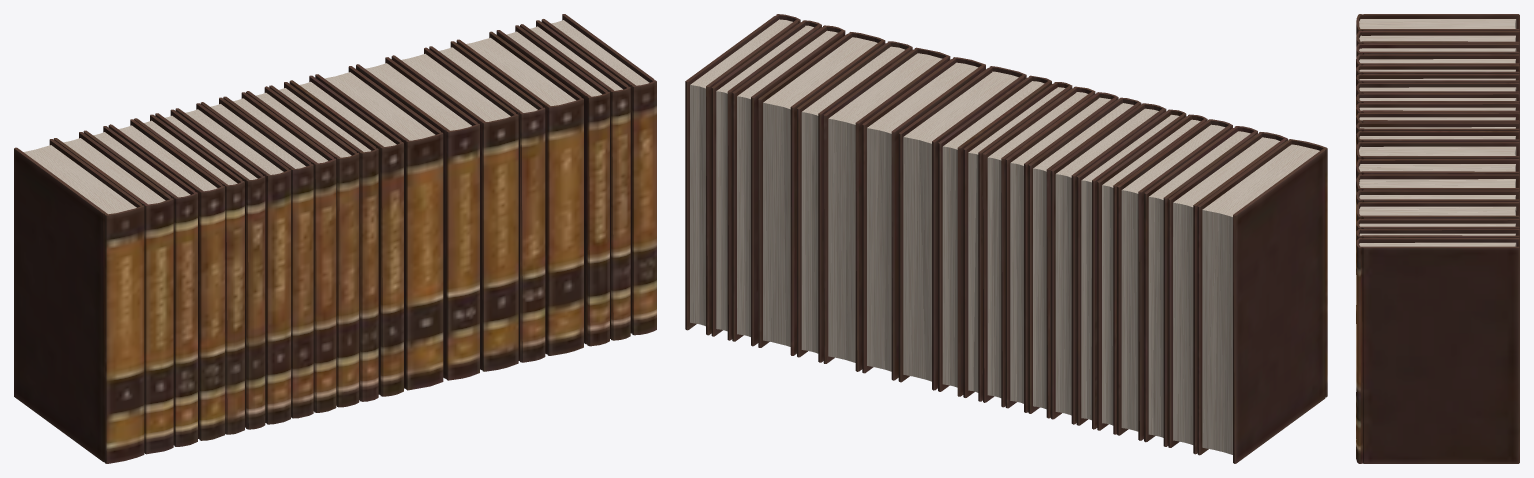
File: books.glb
3 views of the same model, side by side, from view 1: azimuth 30°, elevation 25°; view 2: azimuth 150°, elevation 25°; view 3: azimuth 270°, elevation 25° (orthographic). The views are drawn at different scales.
Visible parts, largest first — view 1: book_encyclopedia_set_01_book01; view 2: book_encyclopedia_set_01_book01; view 3: book_encyclopedia_set_01_book01.
Boxes of the visible parts, bbox=[...] form: book_encyclopedia_set_01_book01: bbox=[14, 14, 656, 463]; book_encyclopedia_set_01_book01: bbox=[685, 14, 1327, 463]; book_encyclopedia_set_01_book01: bbox=[1356, 14, 1519, 463].
Bounding box in the file's own units: 0.5513 × 0.2374 × 0.1631.
2 materials, 2 textured.
